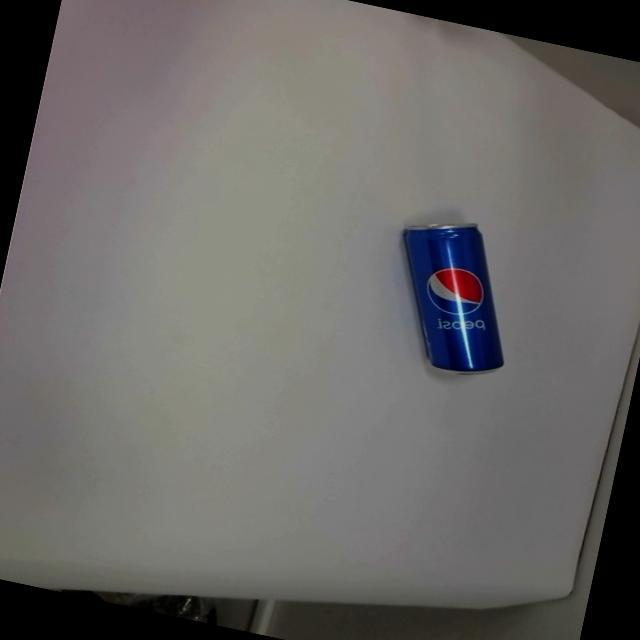debris: (376, 208, 532, 381)
